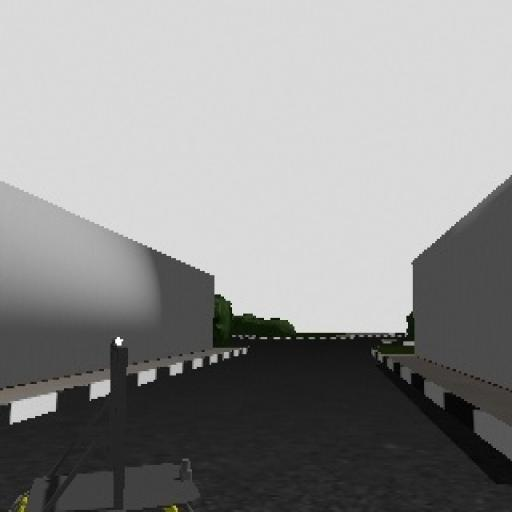huskya200: (15, 341, 206, 512)
